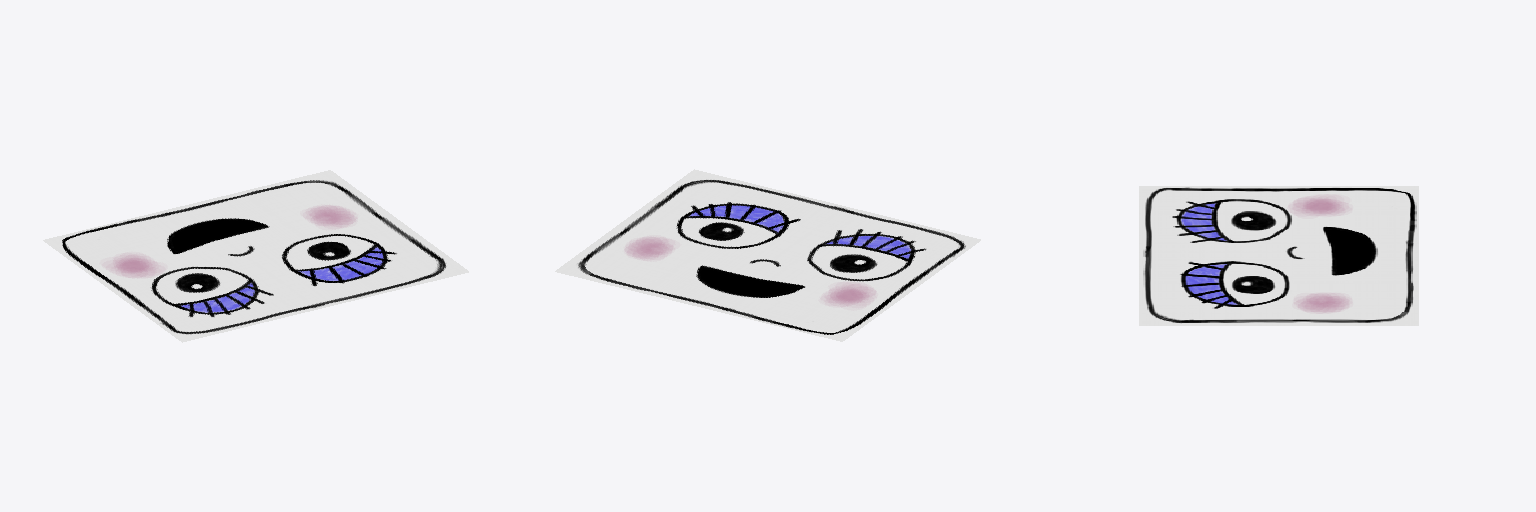
3 renders of one model, left to right at view 1: azimuth 30°, elevation 25°; view 2: azimuth 150°, elevation 25°; view 3: azimuth 270°, elevation 25°, orthographic.
Parts seen in each view (by area): view 1: Plane; view 2: Plane; view 3: Plane.
Part boxes in pixels (x1,y1,x2,y2): Plane: (43,170,468,342); Plane: (555,169,980,341); Plane: (1139,186,1418,325).
Size of the model in its own units: 2 by 0 by 2.
1 materials, 1 textured.